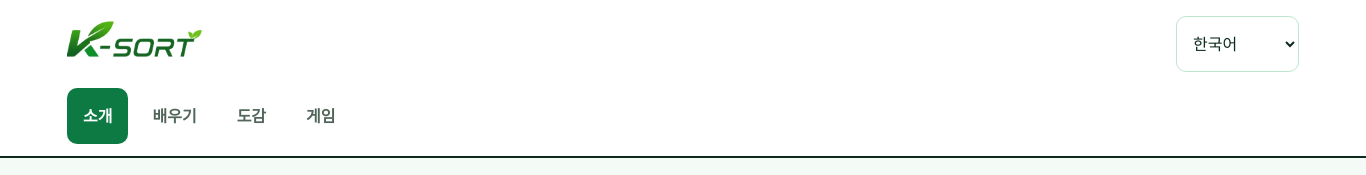
Test case: AppHeader › switches every label when the language changes
Expected: the link "도감" is shown, [237,106,266,126]
Select "Tiếng Việt" in the dropdown named "언어" at (1238, 44), box [1176,16,1299,72]
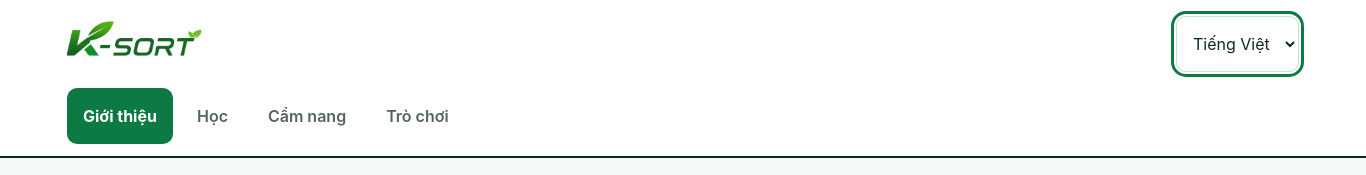
Expected: the link "Cẩm nang" is shown, [268,106,346,126]
Expected: the link "도감" is gone
